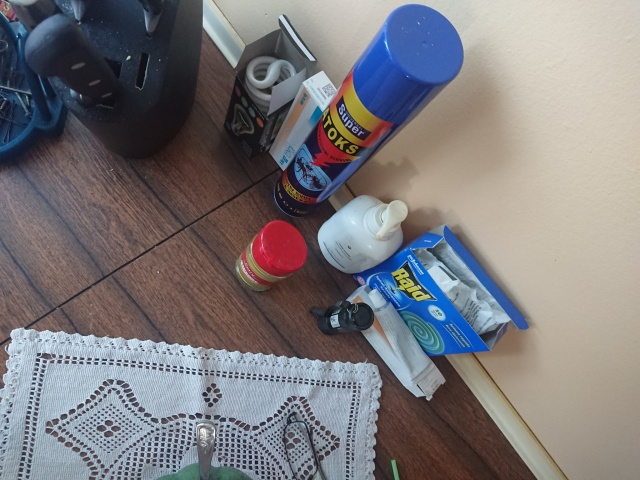Kotanyi Curry Spices Mix 70g: (233, 217, 310, 293)
